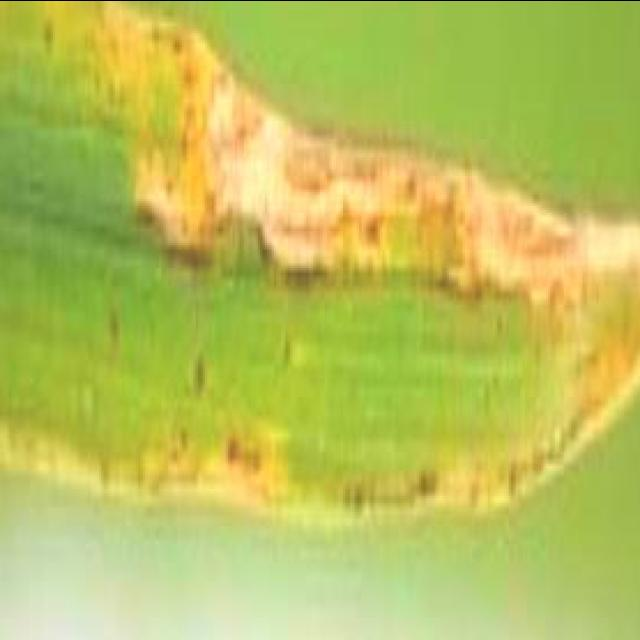Bacterial_Leaf_Blight: (0, 51, 622, 497)
